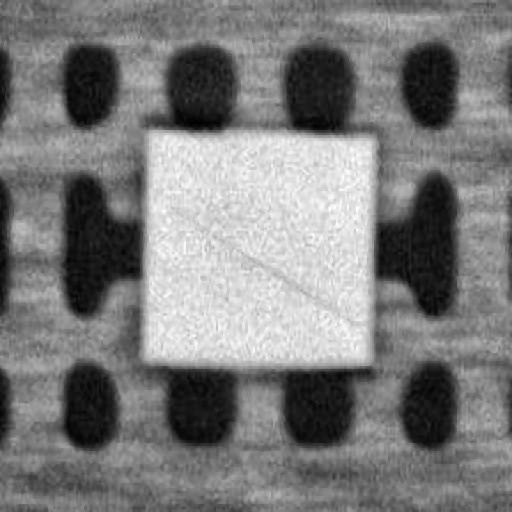DIE_CRACK: (251, 136, 512, 216)
